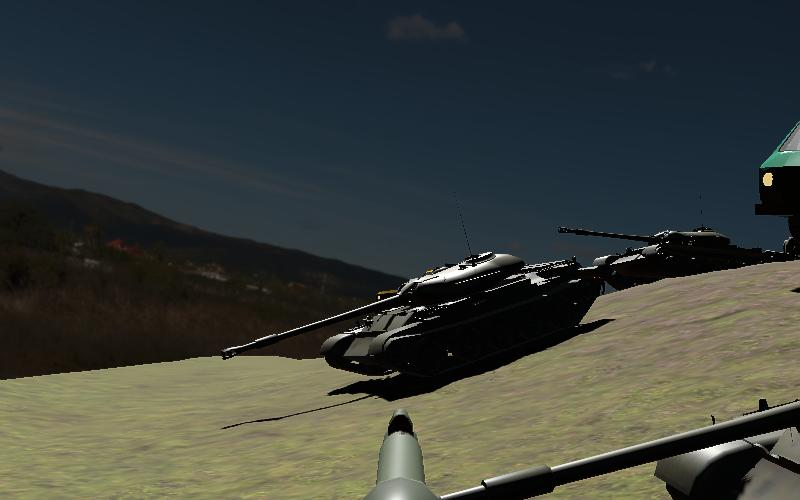Tank: (221, 251, 602, 385), (558, 222, 775, 293)
car: (755, 114, 800, 260)
